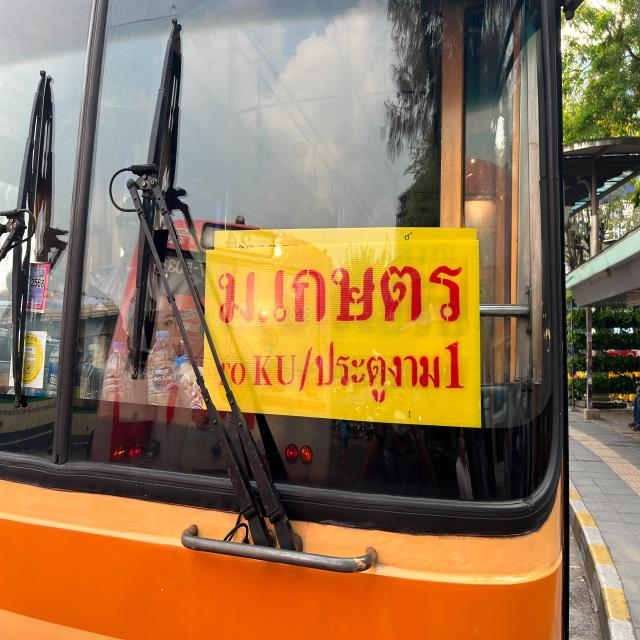BMTA-bus: (0, 0, 575, 640)
Destination-Sign-Extra-Bus-Expressway: (204, 240, 482, 427)
